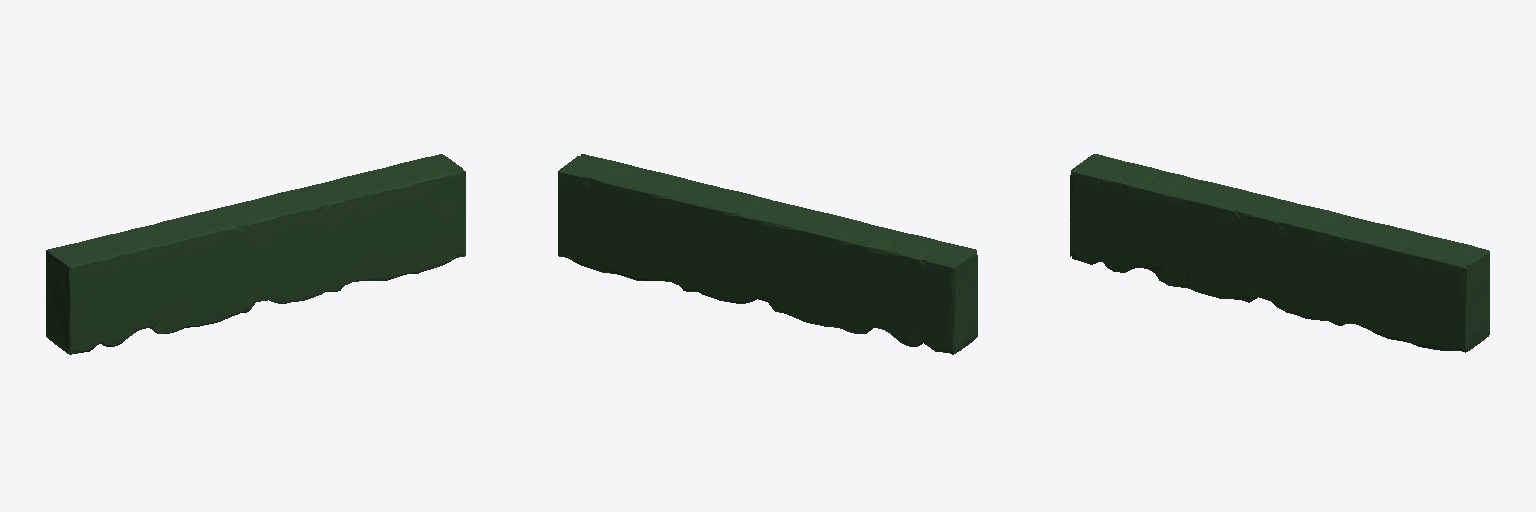
Rendered from hedge.obj.
3 views of the same model, side by side, from view 1: azimuth 30°, elevation 25°; view 2: azimuth 150°, elevation 25°; view 3: azimuth 330°, elevation 25° (orthographic).
Size of the model in its own units: 1.95 by 0.4364 by 0.2077.